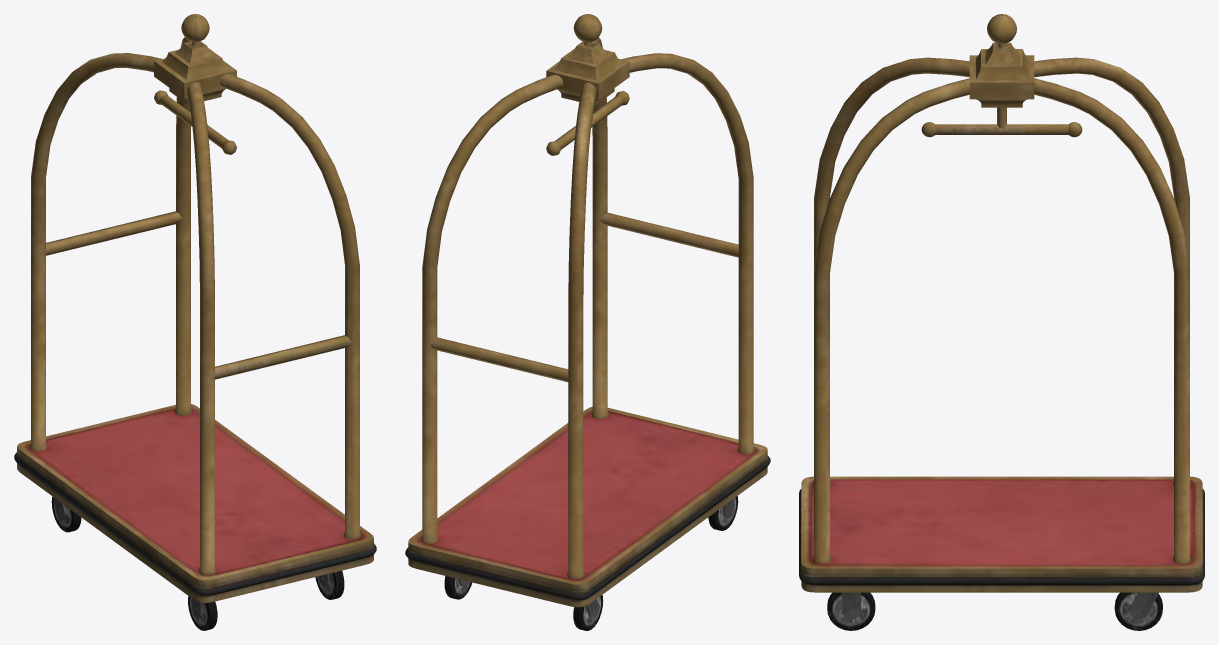
The model's file is luggage-trolley.glb.
The picture shows the model from 3 angles, left to right: view 1: azimuth 30°, elevation 25°; view 2: azimuth 150°, elevation 25°; view 3: azimuth 270°, elevation 25°; orthographic projection. The views are drawn at different scales.
Visible parts, largest first — view 1: trolley; view 2: trolley; view 3: trolley.
Part boxes in pixels (x1=…): trolley: x1=14, y1=14, x2=376, y2=630; trolley: x1=405, y1=14, x2=770, y2=630; trolley: x1=799, y1=14, x2=1204, y2=630.
Size of the model in its own units: 0.5907 by 1.7 by 1.08.
1 material, 1 textured.
